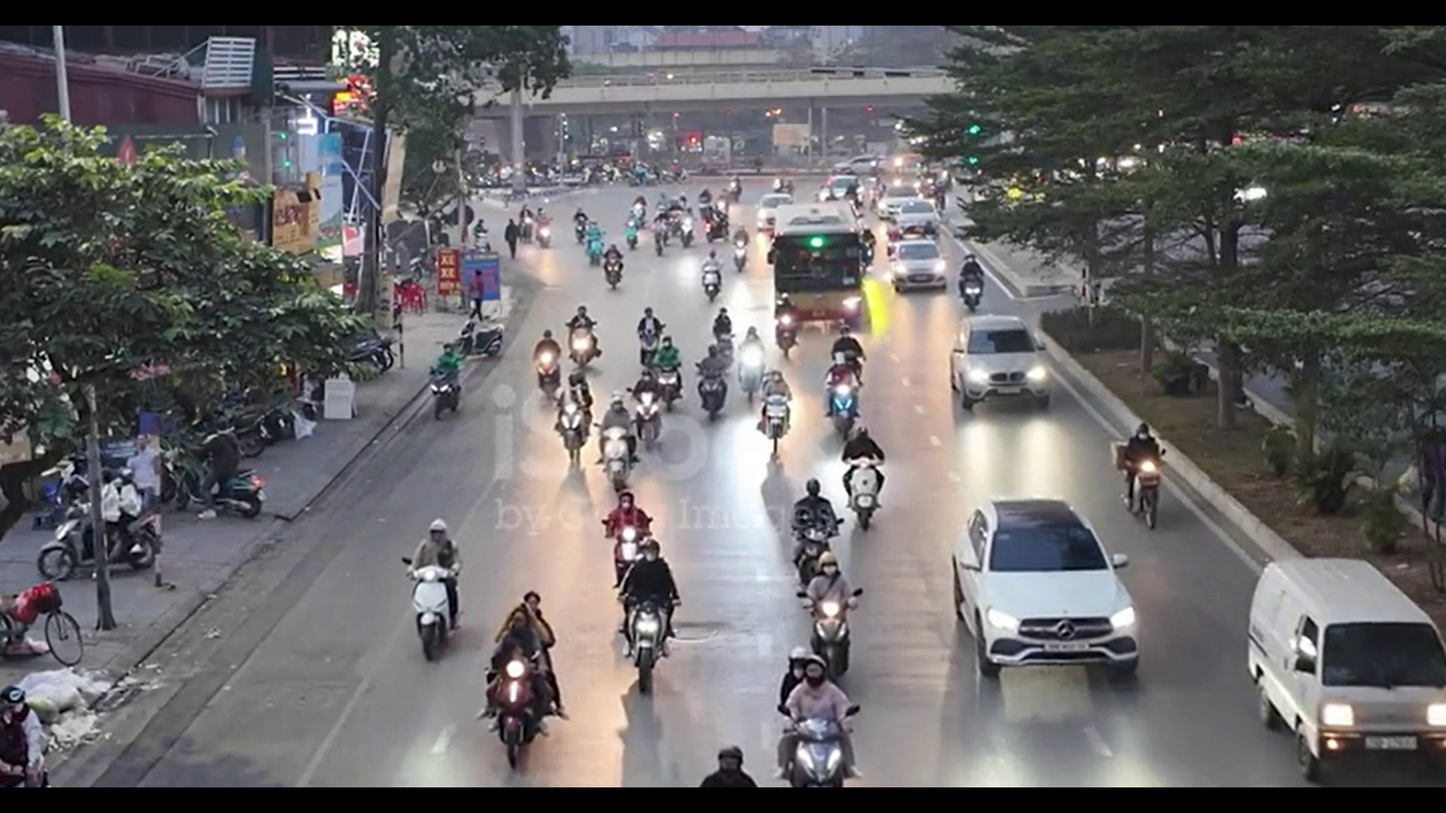bus: (770, 226, 865, 337)
car: (1243, 554, 1445, 783), (951, 495, 1142, 681), (951, 316, 1053, 411), (891, 238, 949, 294)
motorcycle: (36, 485, 162, 581), (483, 653, 561, 777), (0, 579, 86, 668), (774, 715, 852, 789), (620, 594, 674, 696), (411, 574, 455, 664), (1119, 447, 1163, 530), (842, 460, 885, 530)
